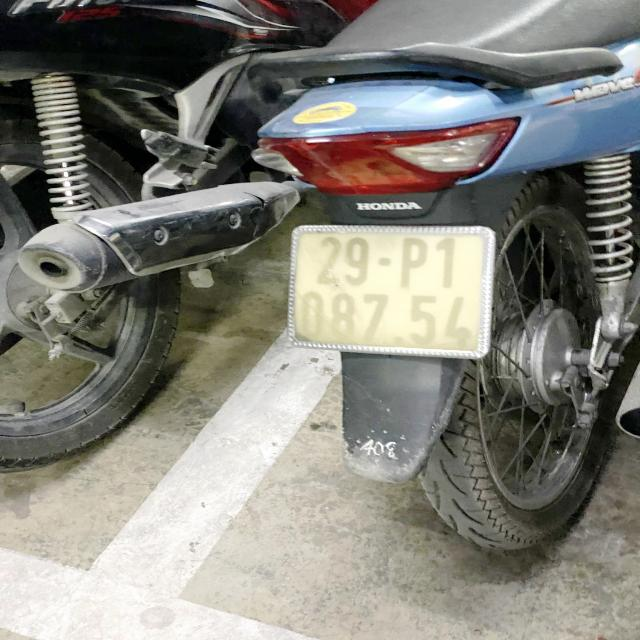license_plate: (281, 223, 503, 366)
